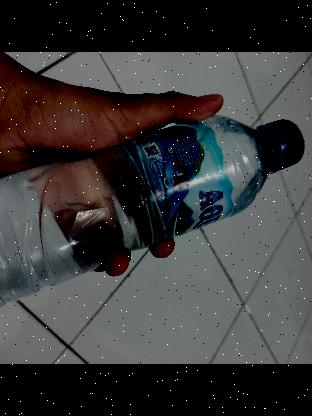Plastic Bottle: (0, 116, 306, 328)
